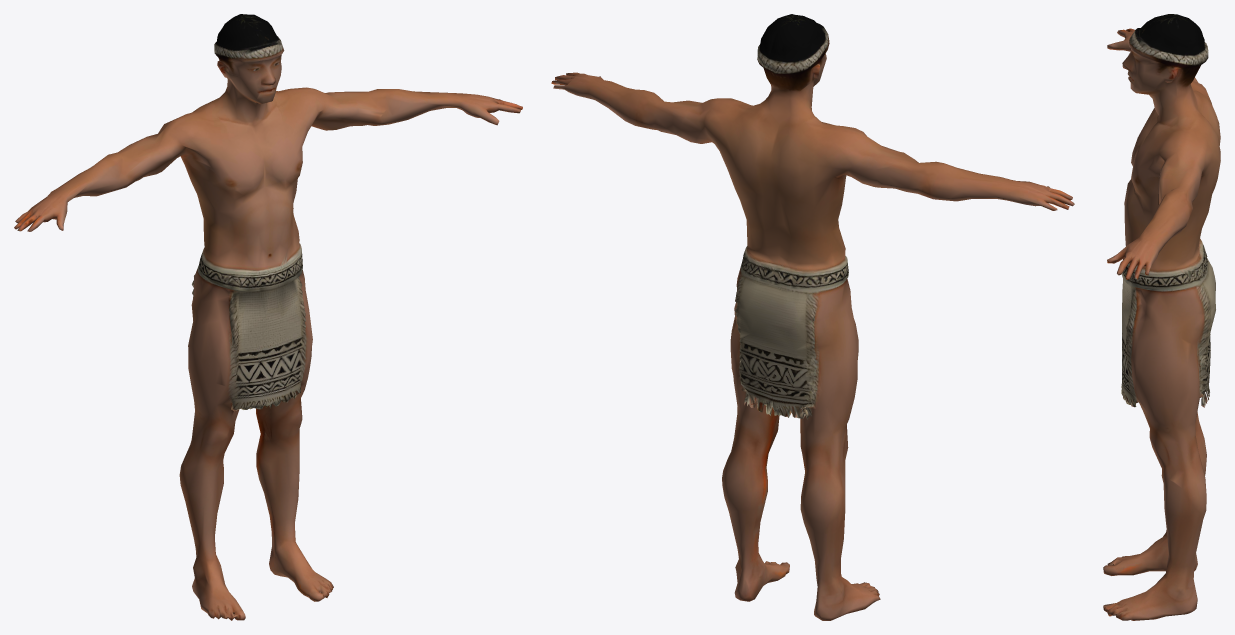
Rendered from notattoop1.fbx.
3 renders of one model, left to right at view 1: azimuth 30°, elevation 25°; view 2: azimuth 150°, elevation 25°; view 3: azimuth 270°, elevation 25°, orthographic. The views are drawn at different scales.
Parts seen in each view (by area): view 1: tripo_node_92ba7ed8; view 2: tripo_node_92ba7ed8; view 3: tripo_node_92ba7ed8.
Boxes of the visible parts, left/top/right/bottom form: tripo_node_92ba7ed8: left=14, top=14, right=522, bottom=620; tripo_node_92ba7ed8: left=551, top=14, right=1074, bottom=620; tripo_node_92ba7ed8: left=1103, top=14, right=1220, bottom=620.
Bounding box in the file's own units: 163 × 176 × 32.52.
Materials: 1 (1 with a texture image).
